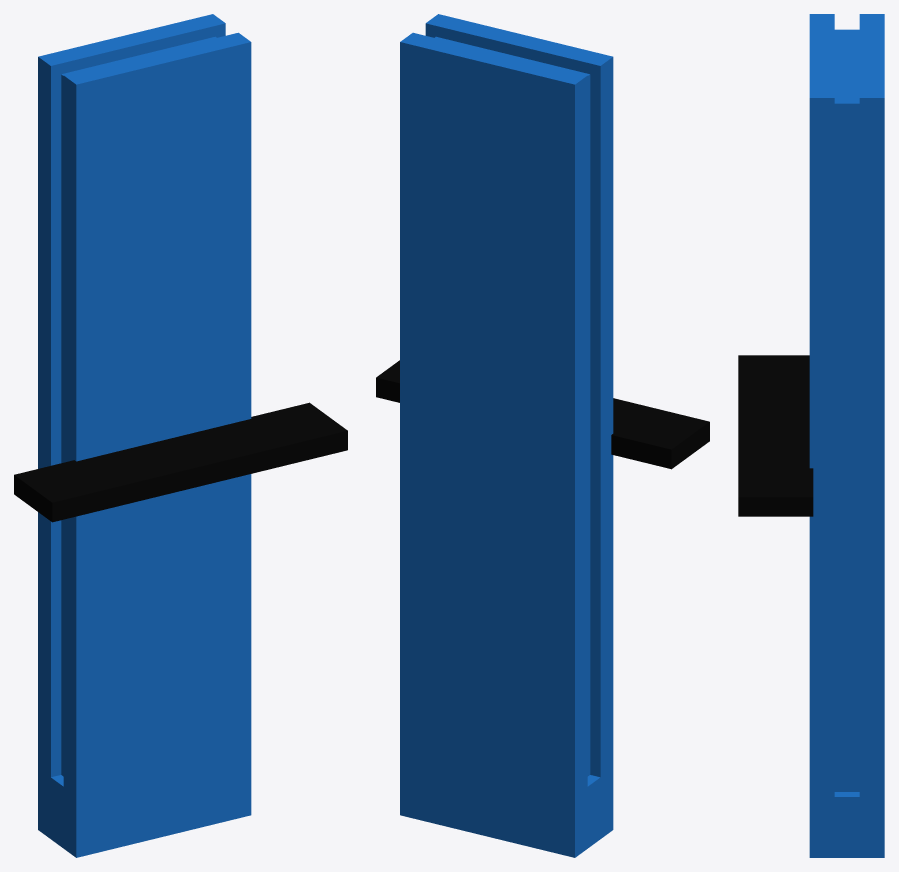
File: SM_wall_stand.fbx
3 views of the same model, side by side, from view 1: azimuth 30°, elevation 25°; view 2: azimuth 150°, elevation 25°; view 3: azimuth 270°, elevation 25° (orthographic).
Visible parts, largest first — view 1: Cube_35; view 2: Cube_35; view 3: Cube_35.
Part boxes in pixels (x1,y1,x2,y2): Cube_35: (14,14,347,857); Cube_35: (376,14,709,857); Cube_35: (738,14,884,857).
Size of the model in its own units: 80 by 200 by 34.95.
